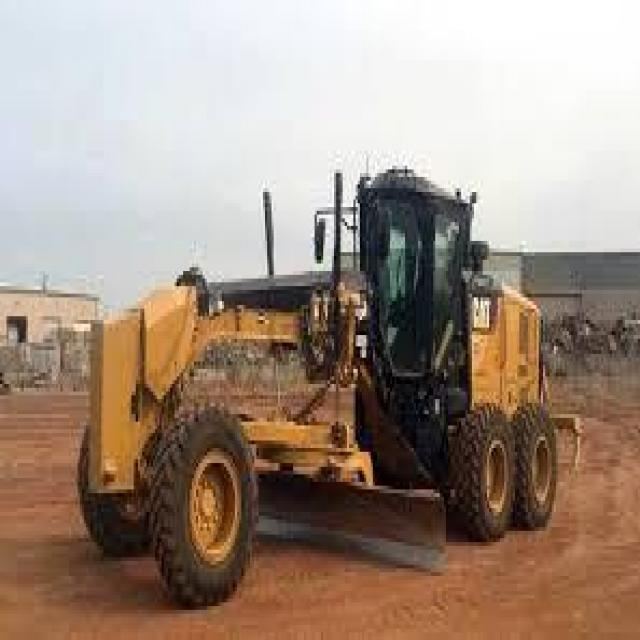Grader: (56, 147, 584, 602)
